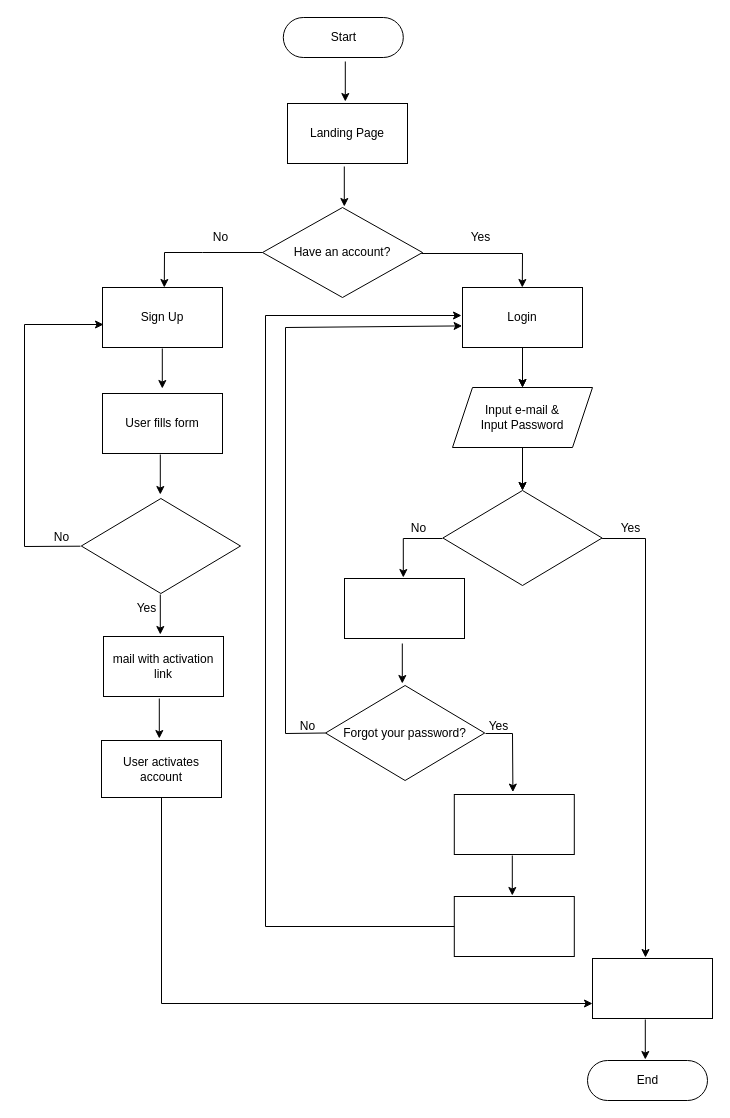
This 730x1118 diagram has some shape labels left out. Here are the shapes that lost their labels. From the top down, the centre of each, then its label:
point 160,546: Data valid?
point 522,538: e-mail & Password valid?
point 404,608: Login failed
point 513,824: mail with password reset
point 513,926: user reset password
point 652,988: Logged in
